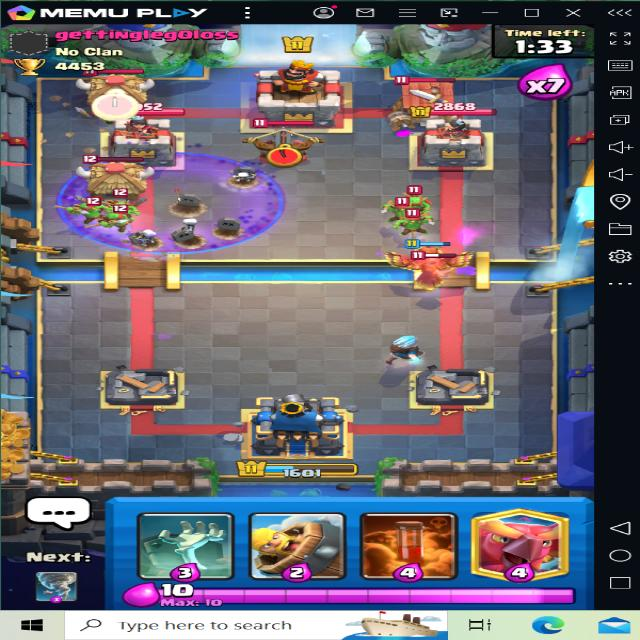barbarian-hut: (390, 74, 462, 124)
goblin-hut: (77, 64, 150, 113), (78, 153, 154, 200)
spear-goblin: (392, 188, 439, 215), (106, 200, 135, 229), (74, 199, 107, 221), (399, 212, 430, 235), (384, 200, 416, 216)
x-bow: (234, 112, 322, 168)
